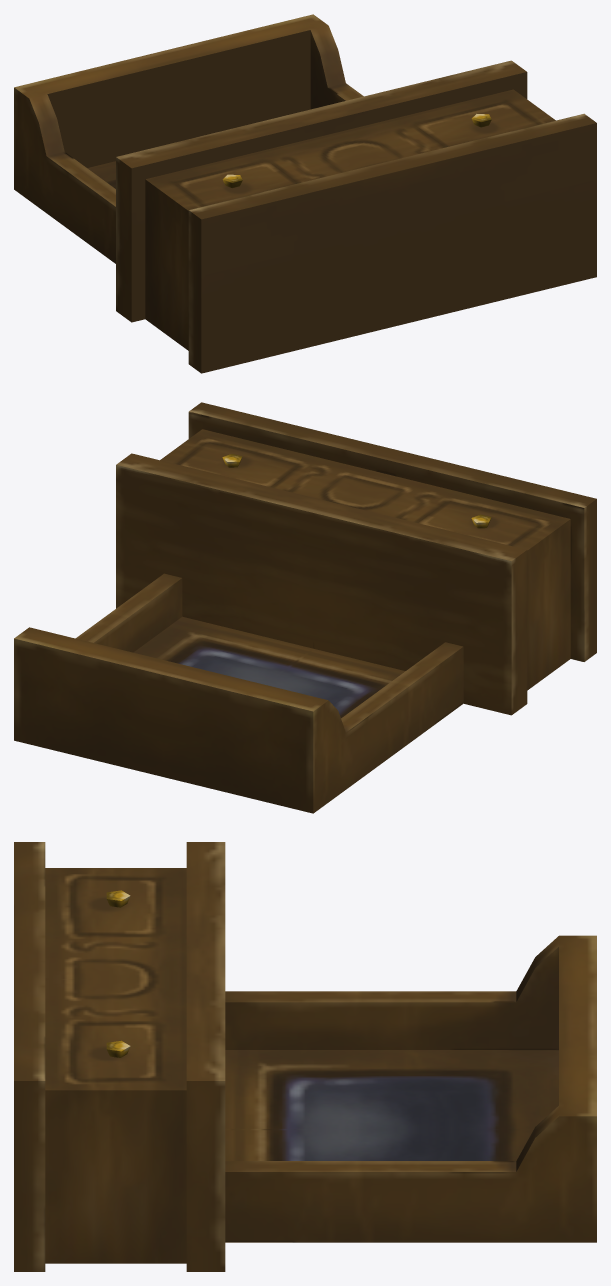
The model's file is props_drawler_big.fbx.
3 views of the same model, one above another, from view 1: azimuth 30°, elevation 25°; view 2: azimuth 150°, elevation 25°; view 3: azimuth 270°, elevation 25° (orthographic). The views are drawn at different scales.
Parts seen in each view (by area): view 1: drawler_big; view 2: drawler_big; view 3: drawler_big.
Boxes of the visible parts, x1,y1,x2,y2 form: drawler_big: [14, 14, 596, 373]; drawler_big: [14, 402, 596, 813]; drawler_big: [14, 842, 596, 1271].
Size of the model in its own units: 2 by 0.745 by 2.06.
Materials: 1 (1 with a texture image).
